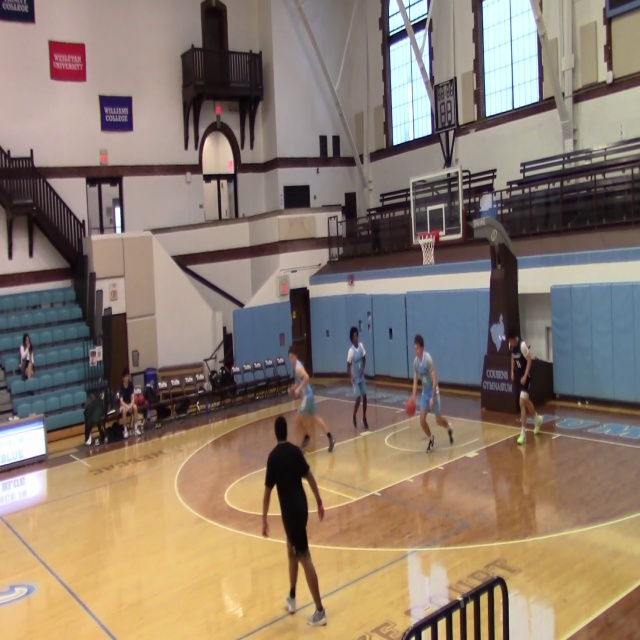Basketball: (406, 397, 415, 416), (290, 387, 301, 399)
